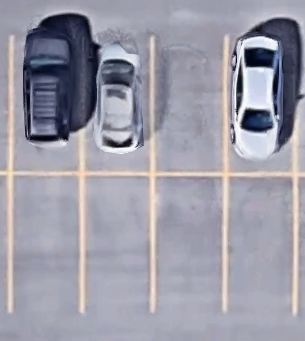Occupied: (10, 35, 82, 174), (82, 35, 153, 175), (226, 36, 296, 175)
Vacant: (153, 36, 226, 174), (153, 174, 225, 313), (225, 174, 296, 314), (10, 174, 82, 312), (82, 174, 153, 313)
